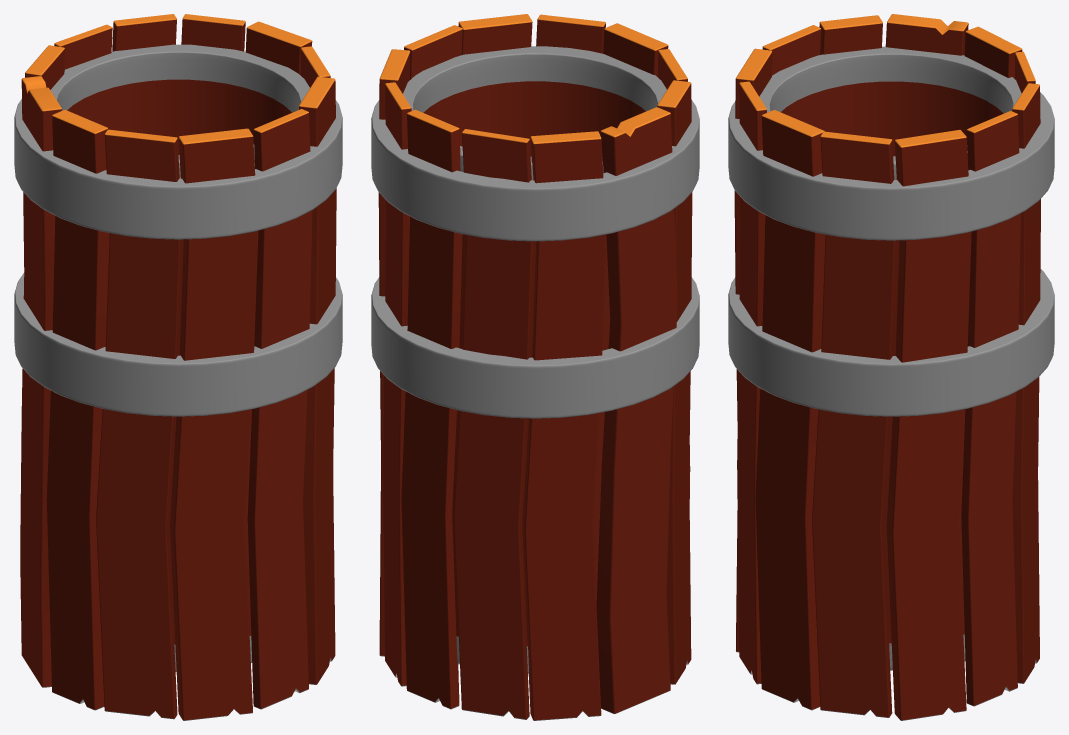
The model's file is SM_Cuve.FBX.
3 renders of one model, left to right at view 1: azimuth 30°, elevation 25°; view 2: azimuth 150°, elevation 25°; view 3: azimuth 270°, elevation 25°, orthographic.
Visible parts, largest first — view 1: Cuve; view 2: Cuve; view 3: Cuve.
Part boxes in pixels (<box>): Cuve: <box>14,14,342,720</box>; Cuve: <box>371,14,699,720</box>; Cuve: <box>728,14,1054,720</box>.
Size of the model in its own units: 635 by 636 by 1235.
